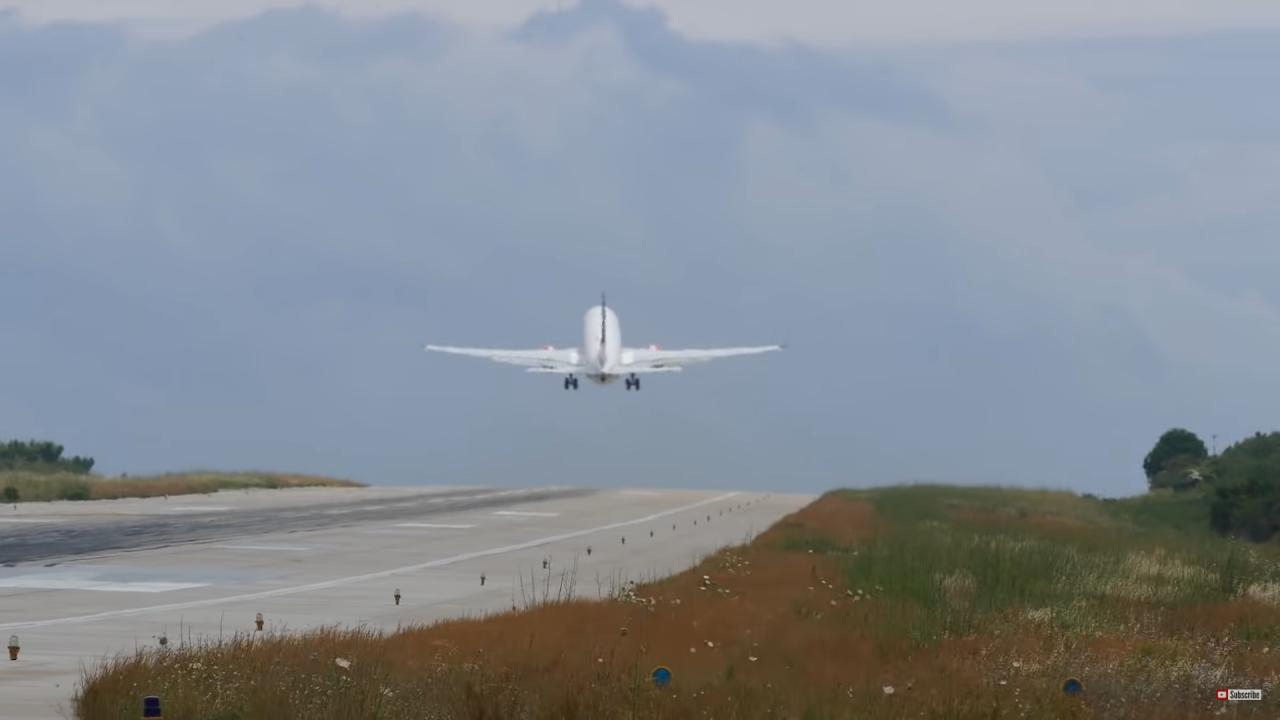Airplane: (406, 285, 800, 405)
